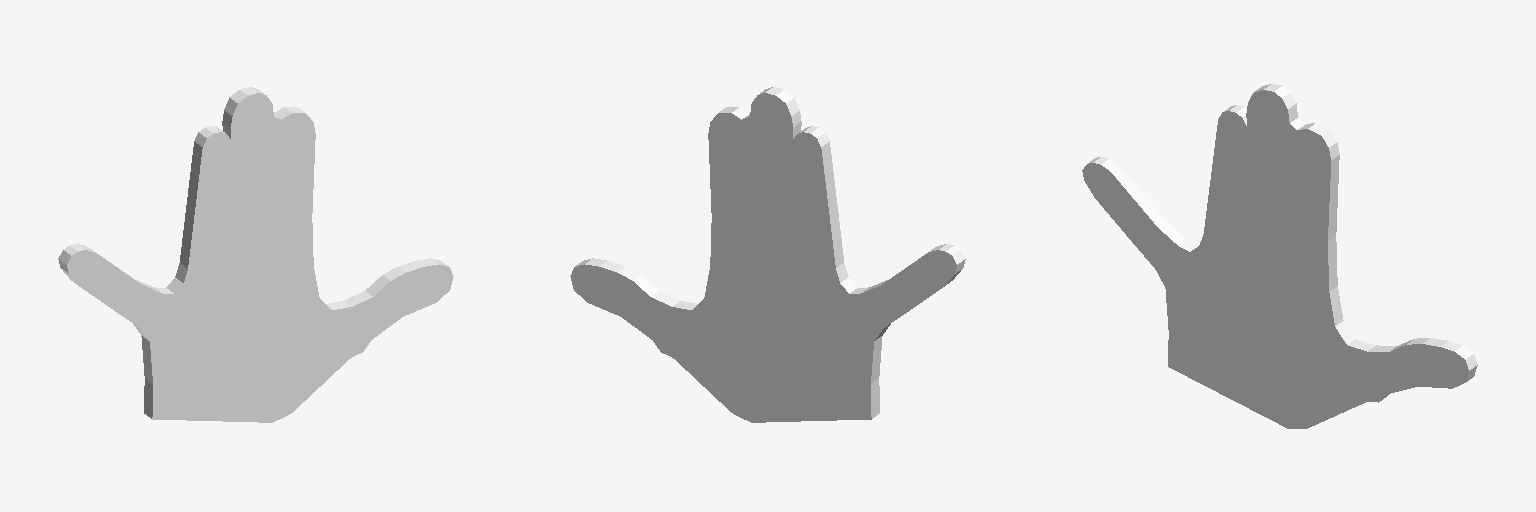
File: Ship.obj
The picture shows the model from 3 angles: view 1: azimuth 30°, elevation 25°; view 2: azimuth 150°, elevation 25°; view 3: azimuth 330°, elevation 25°; orthographic projection.
Parts seen in each view (by area): view 1: Ship; view 2: Ship; view 3: Ship.
Part boxes in pixels (bbox=[...]): Ship: bbox=[58, 87, 453, 422]; Ship: bbox=[570, 87, 965, 422]; Ship: bbox=[1082, 84, 1477, 428].
Size of the model in its own units: 4.31 by 3.55 by 0.1637.